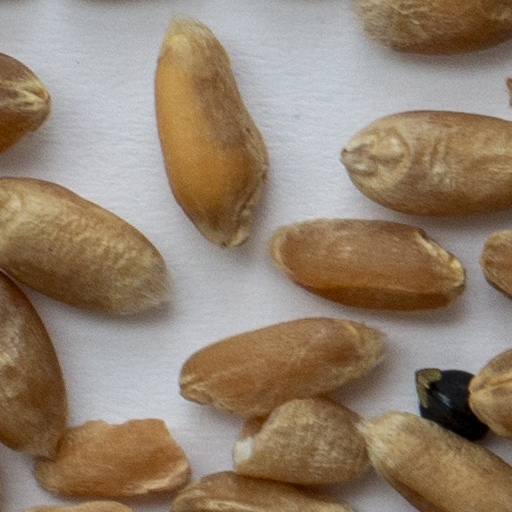Fallopia-Convolvulus-poly: (417, 371, 483, 437)
